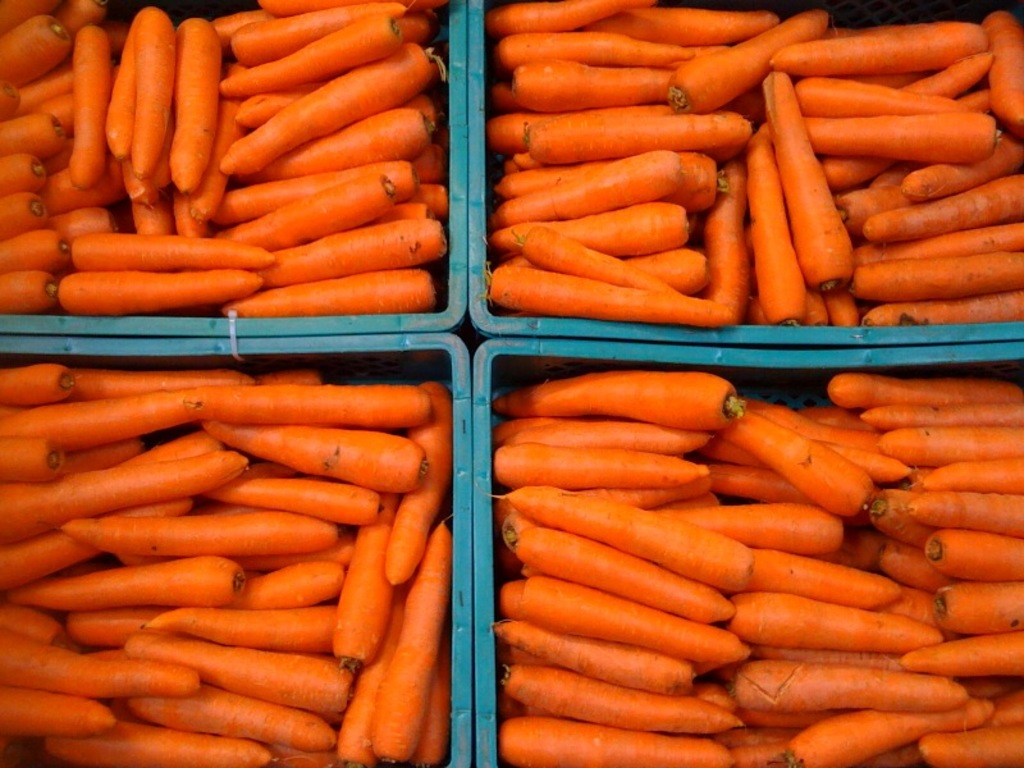Carrot: (494, 377, 1022, 766), (0, 366, 446, 766), (485, 2, 1022, 321), (0, 0, 449, 314), (490, 364, 751, 428)
